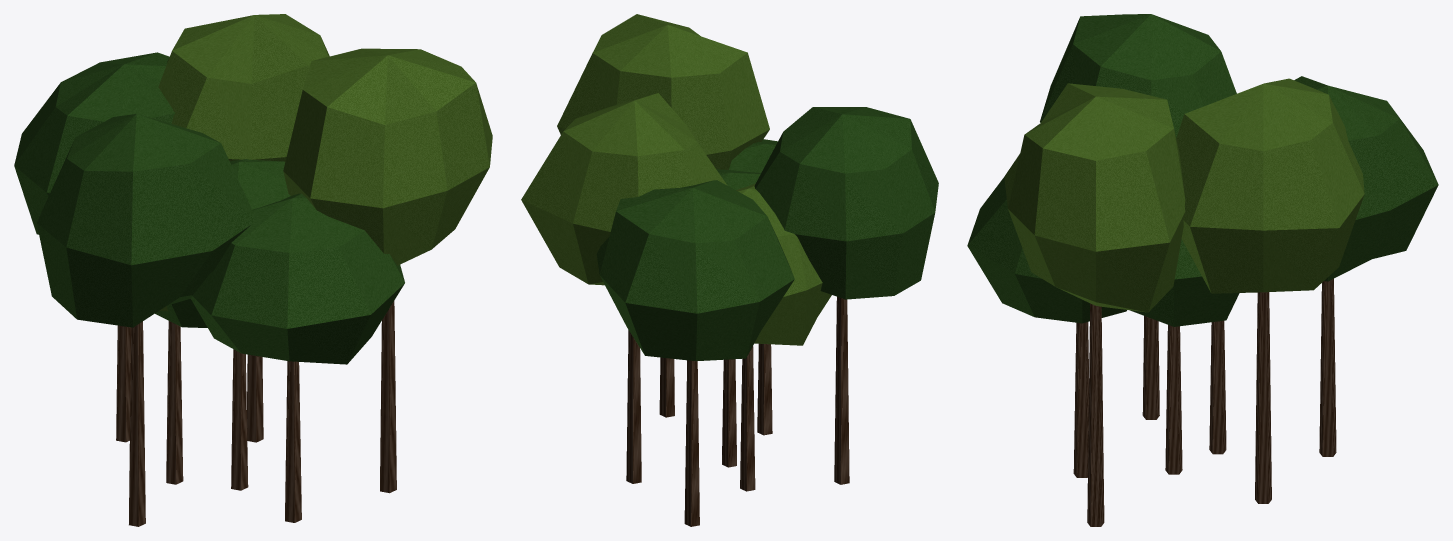
File: canopy_broadleaf_01.fbx
3 views of the same model, side by side, from view 1: azimuth 30°, elevation 25°; view 2: azimuth 150°, elevation 25°; view 3: azimuth 270°, elevation 25° (orthographic). The views are drawn at different scales.
Parts seen in each view (by area): view 1: canopy_broadleaf_01_LOD0; view 2: canopy_broadleaf_01_LOD0; view 3: canopy_broadleaf_01_LOD0.
Part boxes in pixels (x1,y1,x2,y2): canopy_broadleaf_01_LOD0: (14, 14, 492, 526); canopy_broadleaf_01_LOD0: (521, 14, 938, 526); canopy_broadleaf_01_LOD0: (967, 14, 1438, 526).
Size of what is drawn, in the model's own units: 1 by 1 by 1.
